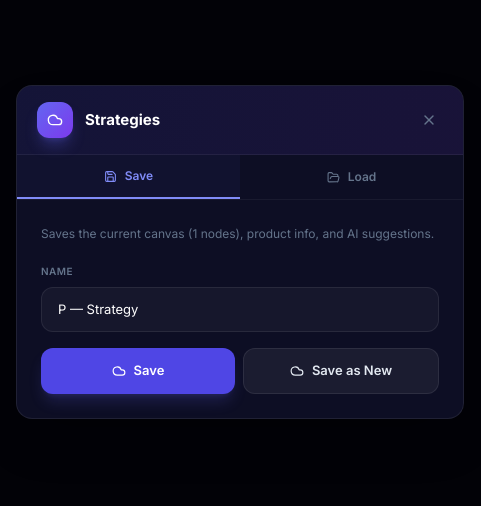
StrategiesModal SaveTab - stale-write conflict (AUTH-004) › a 409 from updateStrategy shows the conflict panel, not a silent success or a generic error message
Click the button "Save" below "Name" at (138, 371), box [41,348,235,394]
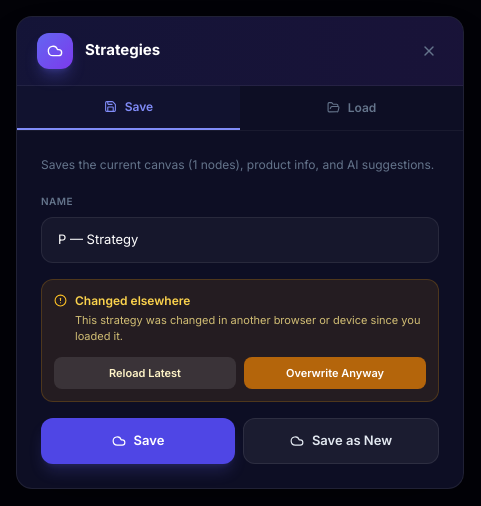
Result: the text "Changed elsewhere" is shown at [75,292,190,308]
Result: the text "changed in another browser" is shown at [75,312,420,343]
